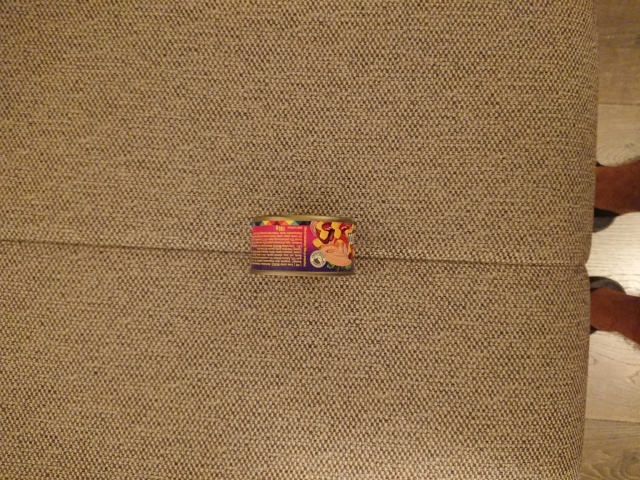Giana Tuna Salad Mexico 185g: (247, 210, 361, 281)
